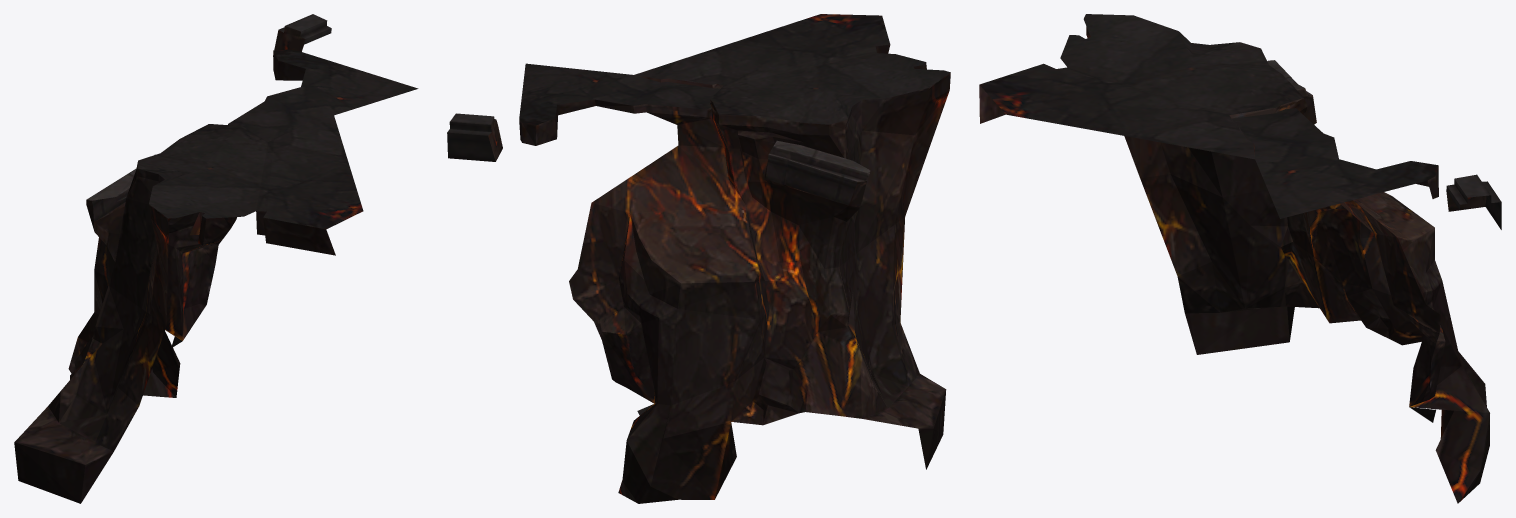
File: S2_Build_XSC106_L5.FBX
The picture shows the model from 3 angles, left to right: view 1: azimuth 30°, elevation 25°; view 2: azimuth 150°, elevation 25°; view 3: azimuth 270°, elevation 25°; orthographic projection. The views are drawn at different scales.
Parts seen in each view (by area): view 1: S2_Build_XSC106_L5; view 2: S2_Build_XSC106_L5; view 3: S2_Build_XSC106_L5.
Boxes of the visible parts, bbox=[...] form: S2_Build_XSC106_L5: bbox=[14, 14, 418, 503]; S2_Build_XSC106_L5: bbox=[447, 14, 950, 503]; S2_Build_XSC106_L5: bbox=[979, 14, 1501, 503].
Bounding box in the file's own units: 2488 × 1997 × 2388.
